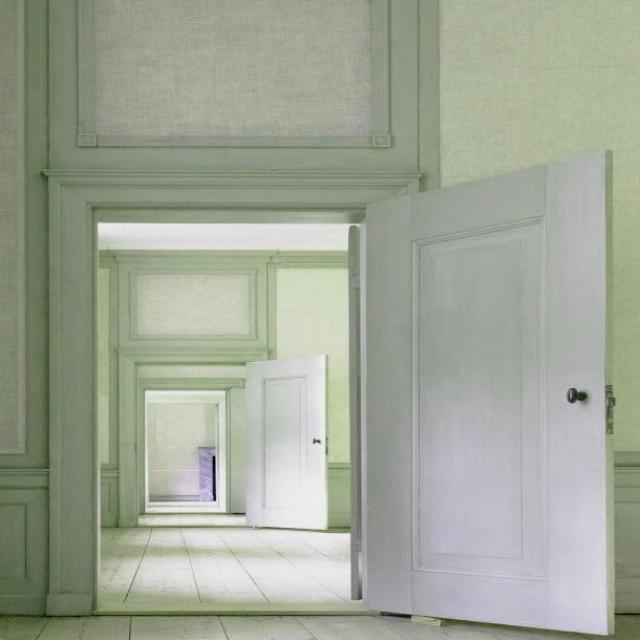door: (357, 148, 614, 635), (243, 352, 335, 533)
